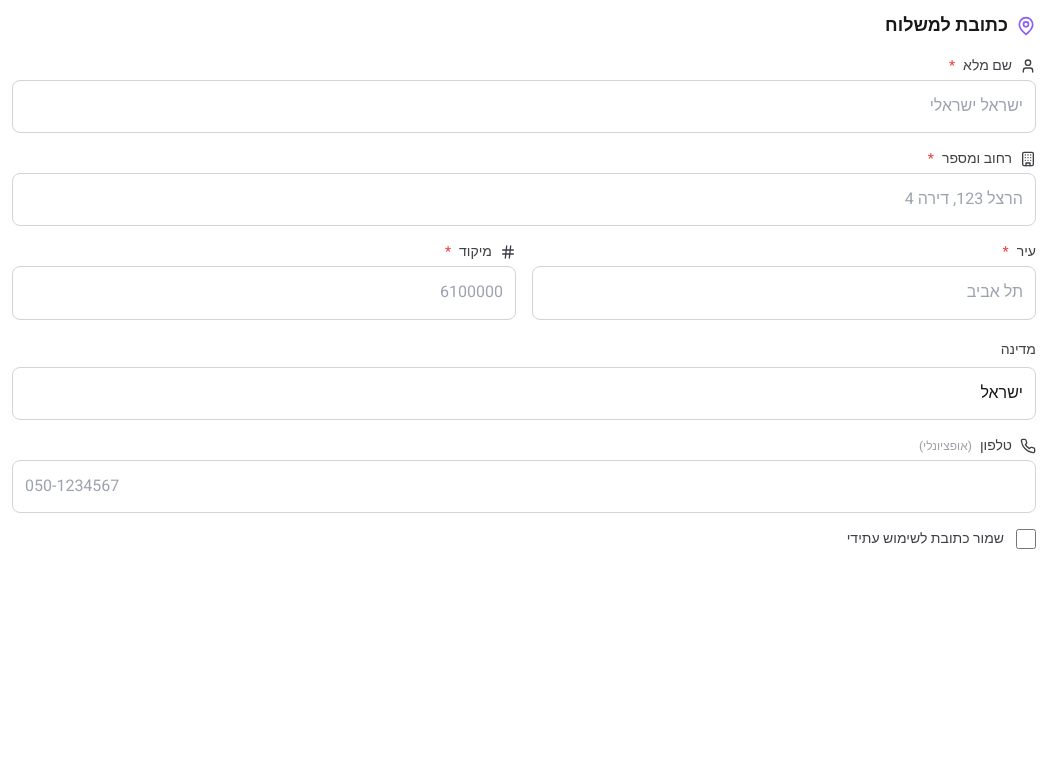
Scenario: ShippingAddressForm › Validation › shows error when street is empty
Click the field labelled "רחוב ומספר *" at (524, 200), box x1=12 y1=173 x2=1036 y2=226
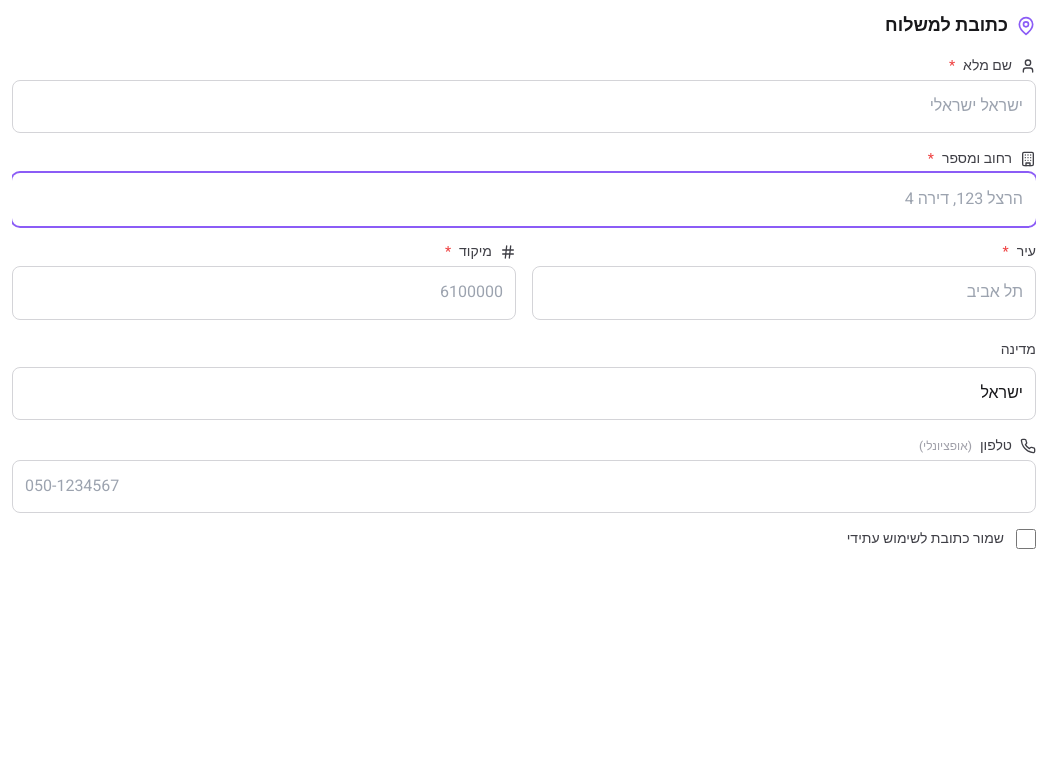
Press Tab
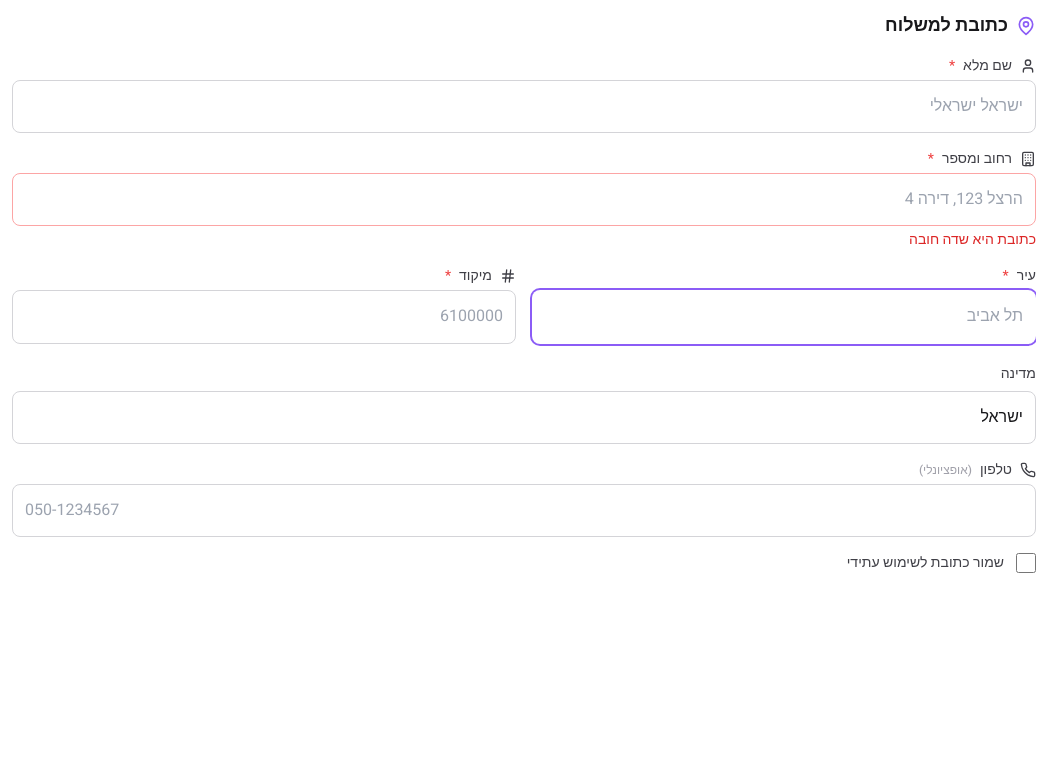
Expected: the text "כתובת היא שדה חובה" is shown, x1=909 y1=229 x2=1036 y2=250
